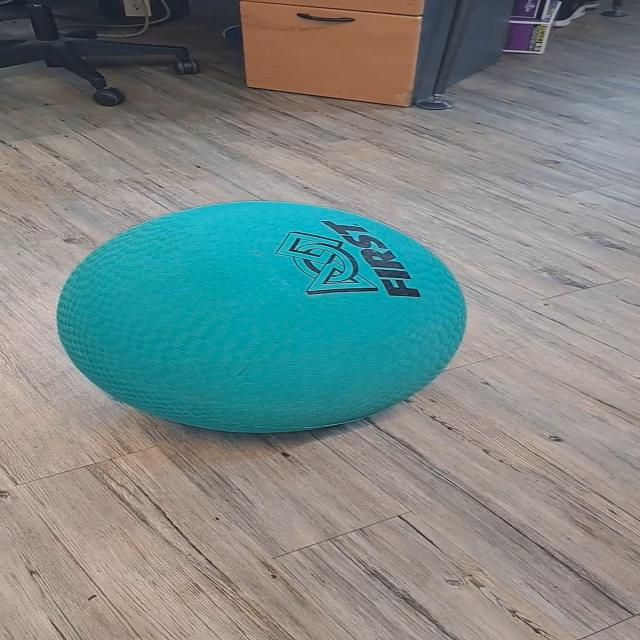ALGAE: (54, 199, 468, 435)
